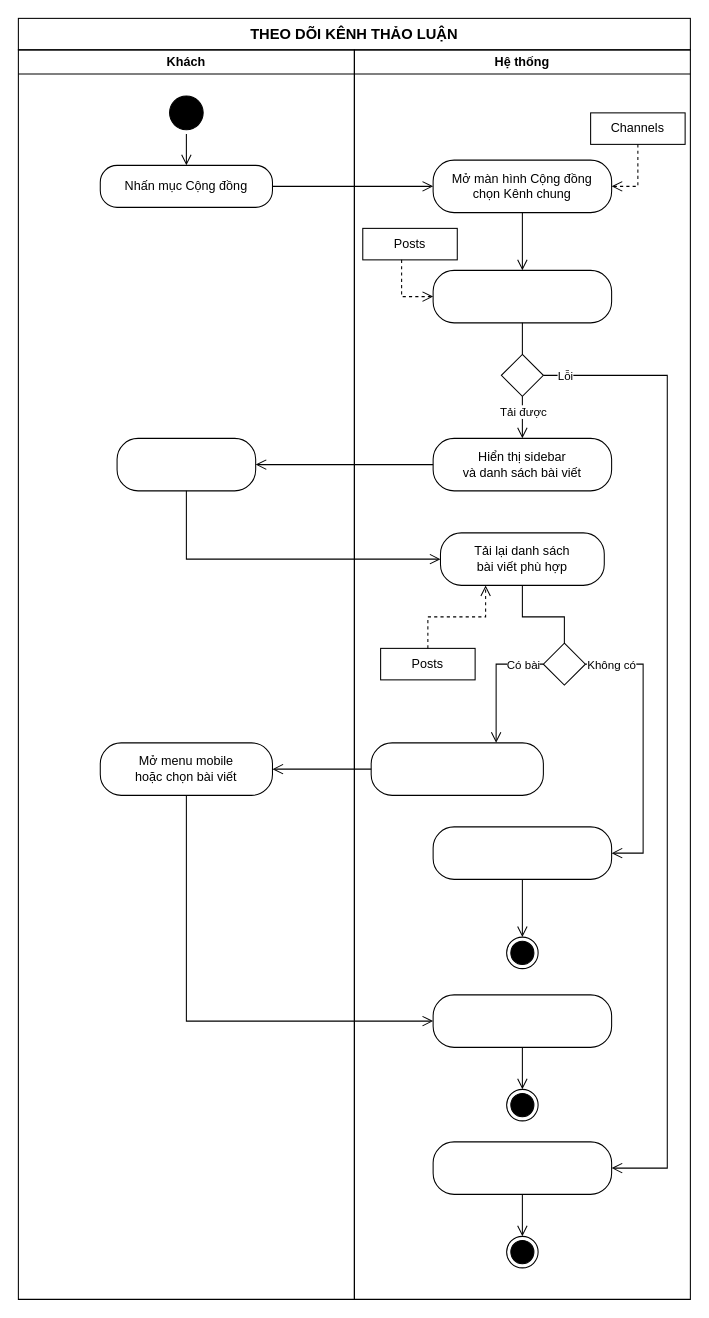
Image size: 709x1318. Some labels were removed from this diagram. The centre of each missing label's shape, as x and y in pixels:
"Chọn kênh hoặc đổi sắp xếp" belongs at (186,464).
"Hiển thị danh sách bài viết đã lọc" belongs at (456,768).
"Hiển thị thông báo lỗi và nút Thử lại" belongs at (522,1167).
"Hiển thị trạng thái không tìm thấy bài viết" belongs at (522,852).
"Tải bài viết công khai theo Top bài viết" belongs at (522,296).
"Đóng sidebar hoặc mở chi tiết bài viết" belongs at (522,1020).
